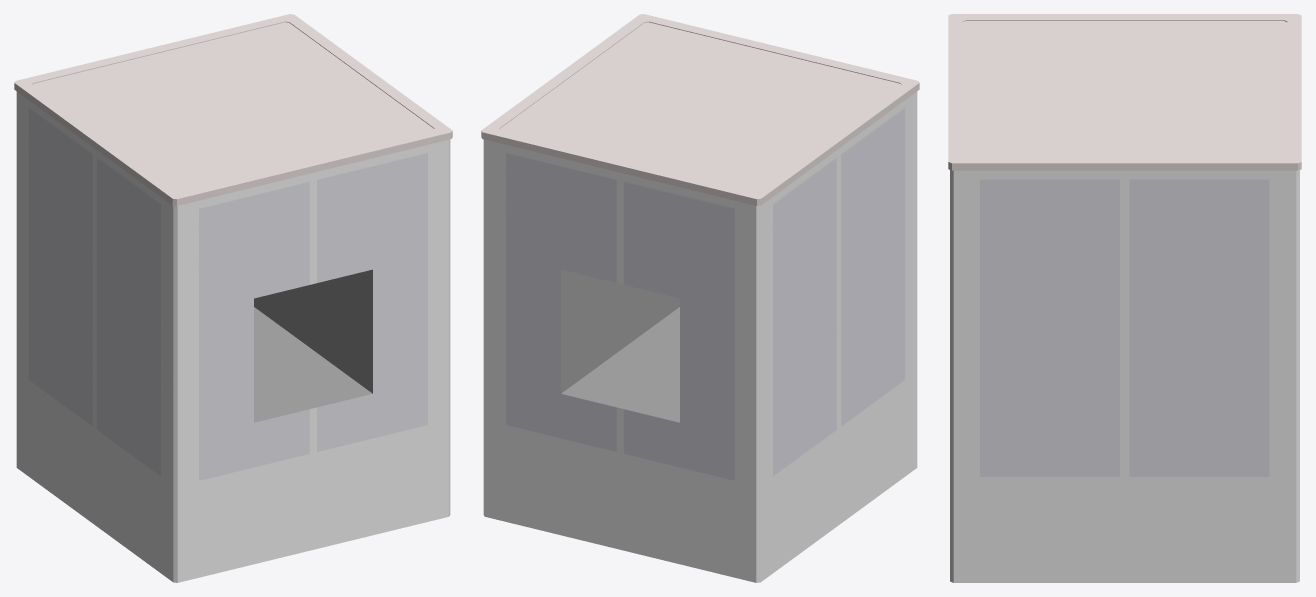
The model's file is building_Hole.fbx.
3 renders of one model, left to right at view 1: azimuth 30°, elevation 25°; view 2: azimuth 150°, elevation 25°; view 3: azimuth 270°, elevation 25°, orthographic. The views are drawn at different scales.
Parts seen in each view (by area): view 1: Building_2__15_1; view 2: Building_2__15_1; view 3: Building_2__15_1.
Boxes of the visible parts, x1=… form: Building_2__15_1: x1=14, y1=14, x2=452, y2=582; Building_2__15_1: x1=481, y1=14, x2=919, y2=582; Building_2__15_1: x1=948, y1=14, x2=1301, y2=582.
Size of the model in its own units: 257 by 337 by 257.
